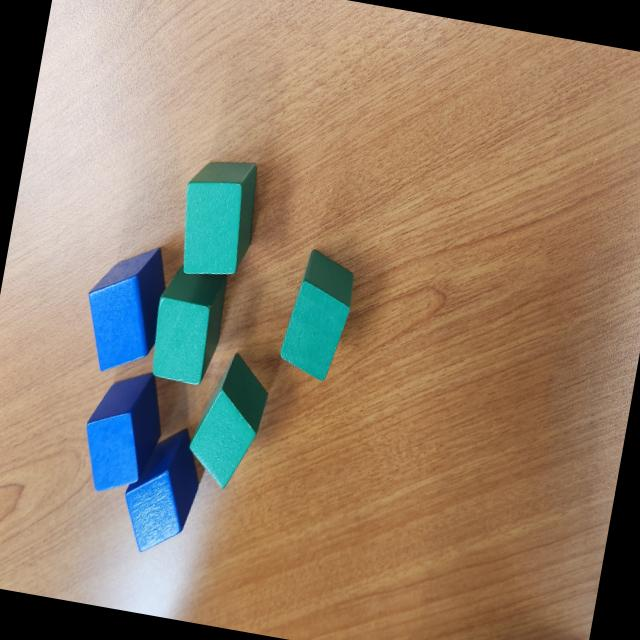blue: (74, 235, 172, 380), (76, 362, 172, 502), (114, 419, 208, 560)
green: (181, 347, 275, 492), (172, 152, 265, 284), (142, 260, 231, 390), (276, 246, 359, 385)
